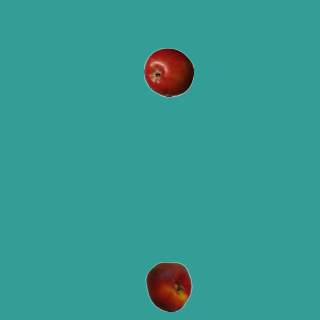Apple Braeburn: (143, 47, 193, 97)
Nectarine Flat: (143, 261, 193, 311)
